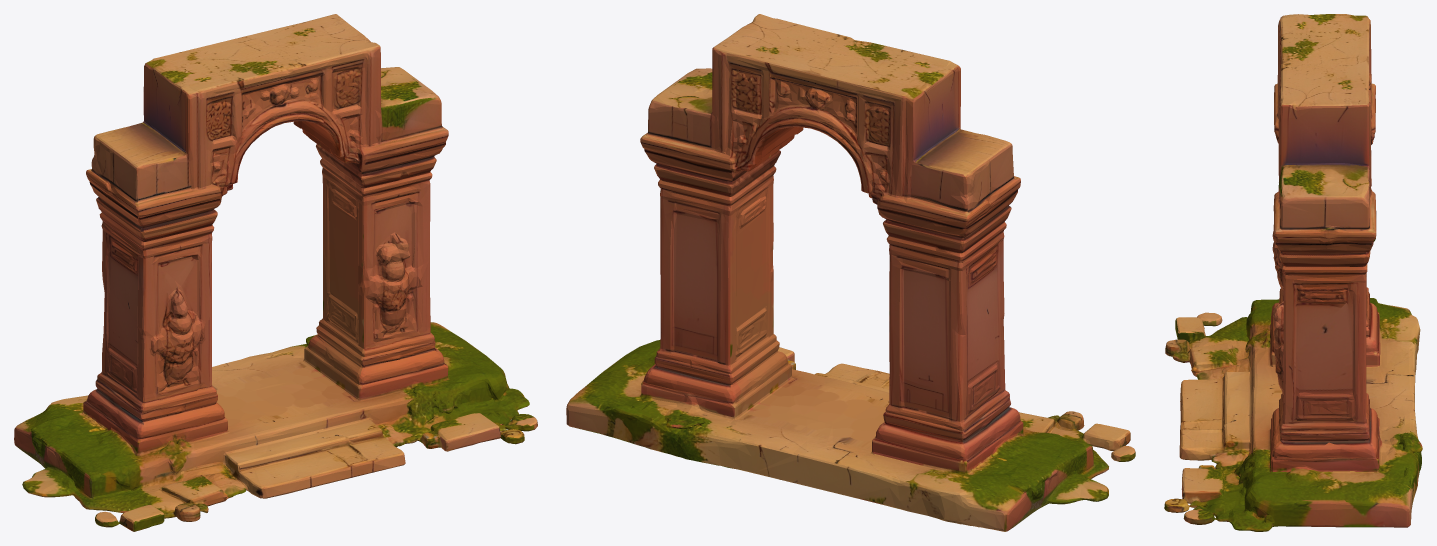
The model's file is right-archway-pillar-segment-optimized.glb.
3 views of the same model, side by side, from view 1: azimuth 30°, elevation 25°; view 2: azimuth 150°, elevation 25°; view 3: azimuth 270°, elevation 25° (orthographic). The views are drawn at different scales.
Parts seen in each view (by area): view 1: d1f7e151-63c8-4181-9276-2cf16153ac3c_texturing; view 2: d1f7e151-63c8-4181-9276-2cf16153ac3c_texturing; view 3: d1f7e151-63c8-4181-9276-2cf16153ac3c_texturing.
Part boxes in pixels (<box>): d1f7e151-63c8-4181-9276-2cf16153ac3c_texturing: <box>14,14,537,531</box>; d1f7e151-63c8-4181-9276-2cf16153ac3c_texturing: <box>566,14,1135,531</box>; d1f7e151-63c8-4181-9276-2cf16153ac3c_texturing: <box>1164,14,1422,531</box>.
Size of the model in its own units: 3.5 by 2.66 by 1.69.
1 material, 1 textured.
